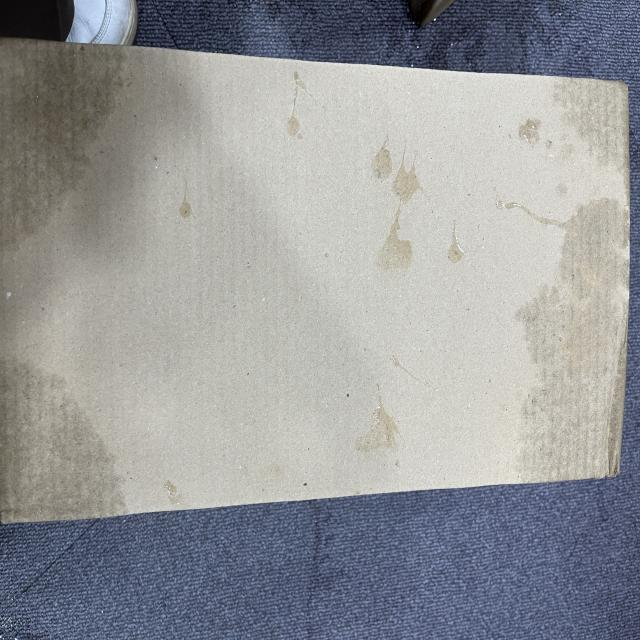wet: (493, 84, 628, 482), (0, 40, 137, 260), (3, 349, 131, 525)
